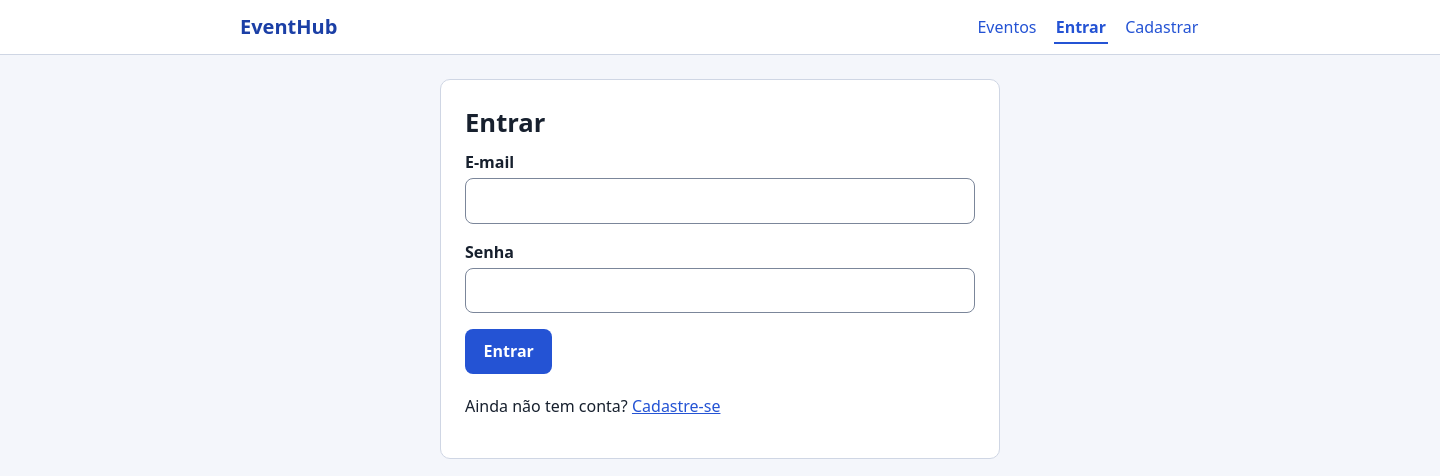
Test: Rotas e guardas (só experiência de navegação; o backend autoriza de fato) › logout descarta o token da memória e volta ao login; a rota protegida volta a exigir login
Type "maria@example.com" into the field labelled "E-mail" at (720, 201), box [465, 178, 975, 224]
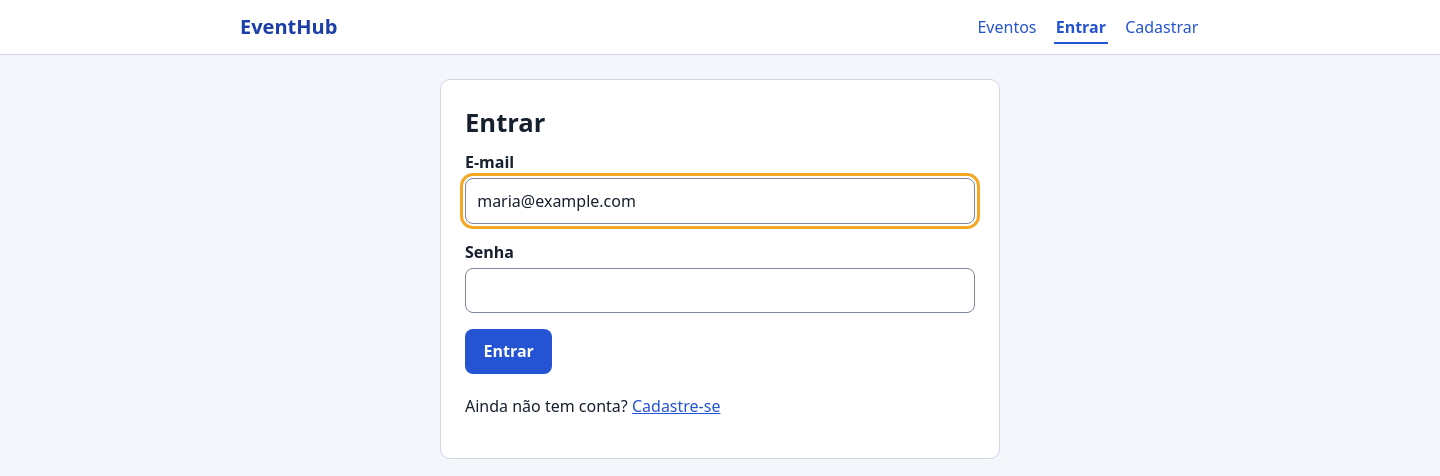
Type "senha-forte-123" into the password field labelled "Senha" at (720, 290), box [465, 268, 975, 313]
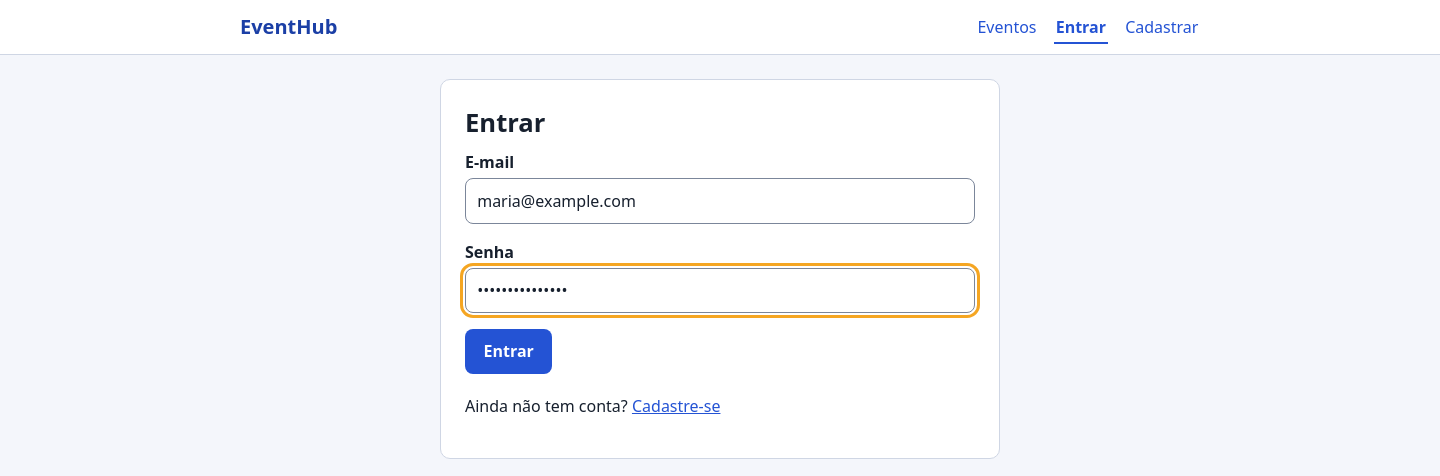
Click the button "Entrar" at (509, 351), box [465, 329, 552, 374]
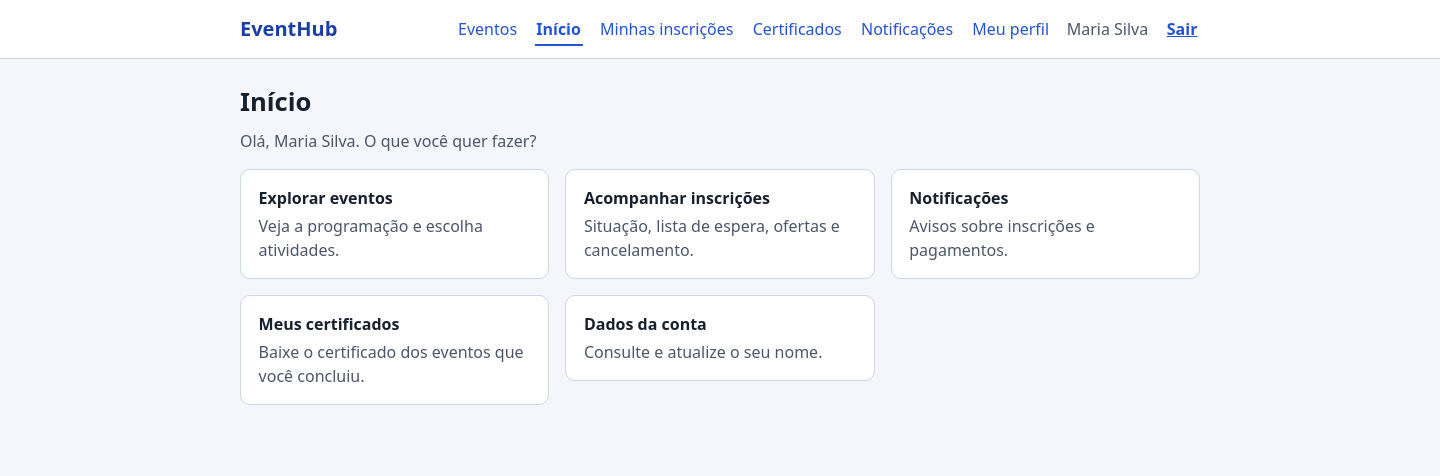
Expected: the heading "Início" is shown, [240, 84, 311, 119]
Click the button "Sair" at (1182, 29), box [1164, 12, 1200, 46]
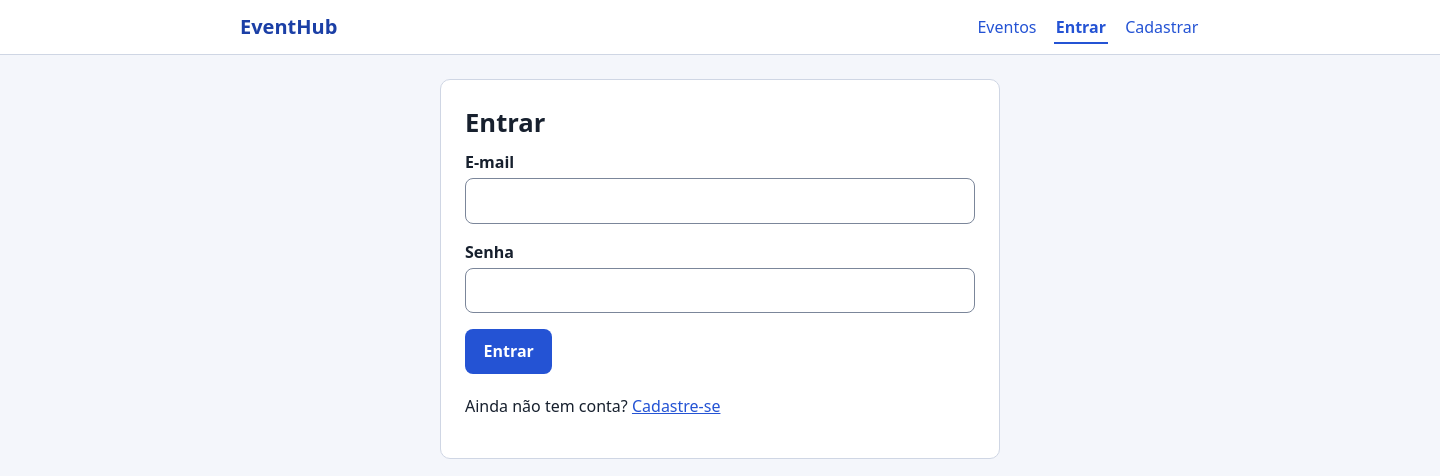
Expected: the heading "Entrar" is shown, [465, 105, 546, 140]
Expected: the button "Sair" is gone
Expected: the link "Cadastrar" is shown, [1124, 12, 1200, 42]
